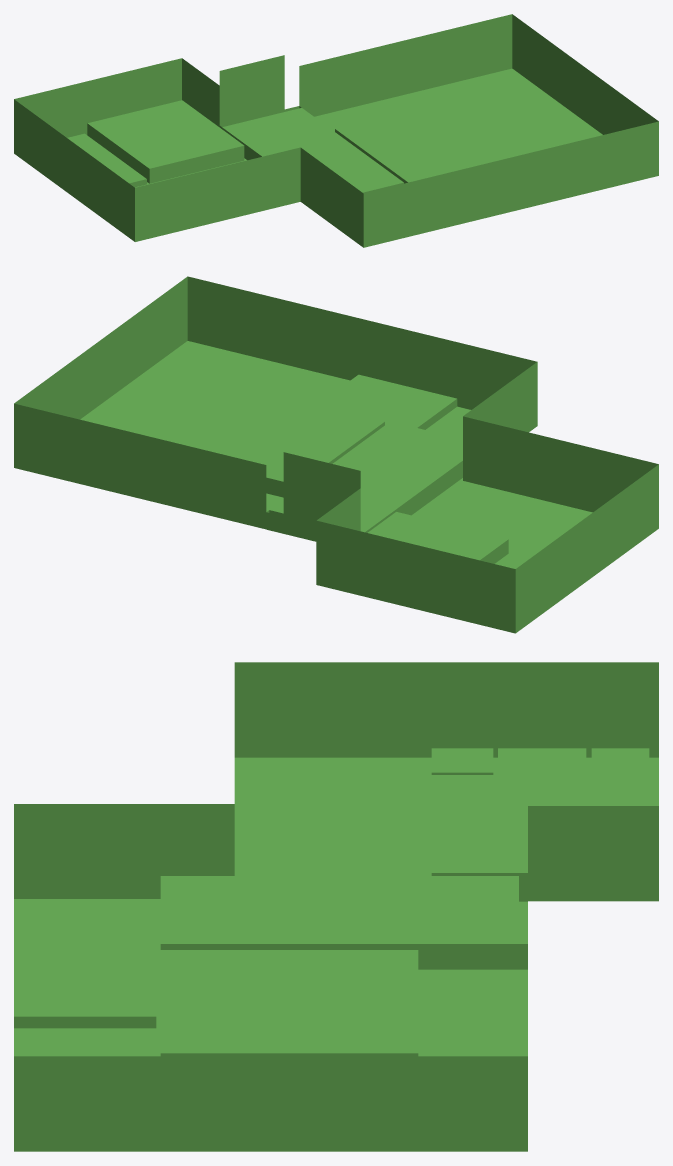
Rendered from roof1.fbx.
3 renders of one model, top to bottom at view 1: azimuth 30°, elevation 25°; view 2: azimuth 150°, elevation 25°; view 3: azimuth 270°, elevation 25°, orthographic. The views are drawn at different scales.
Visible parts, largest first — view 1: pCube1; view 2: pCube1; view 3: pCube1.
Boxes of the visible parts, bbox=[...] form: pCube1: bbox=[14, 14, 658, 247]; pCube1: bbox=[14, 276, 658, 633]; pCube1: bbox=[14, 662, 658, 1151].
Bounding box in the file's own units: 3371 × 483 × 2332.
